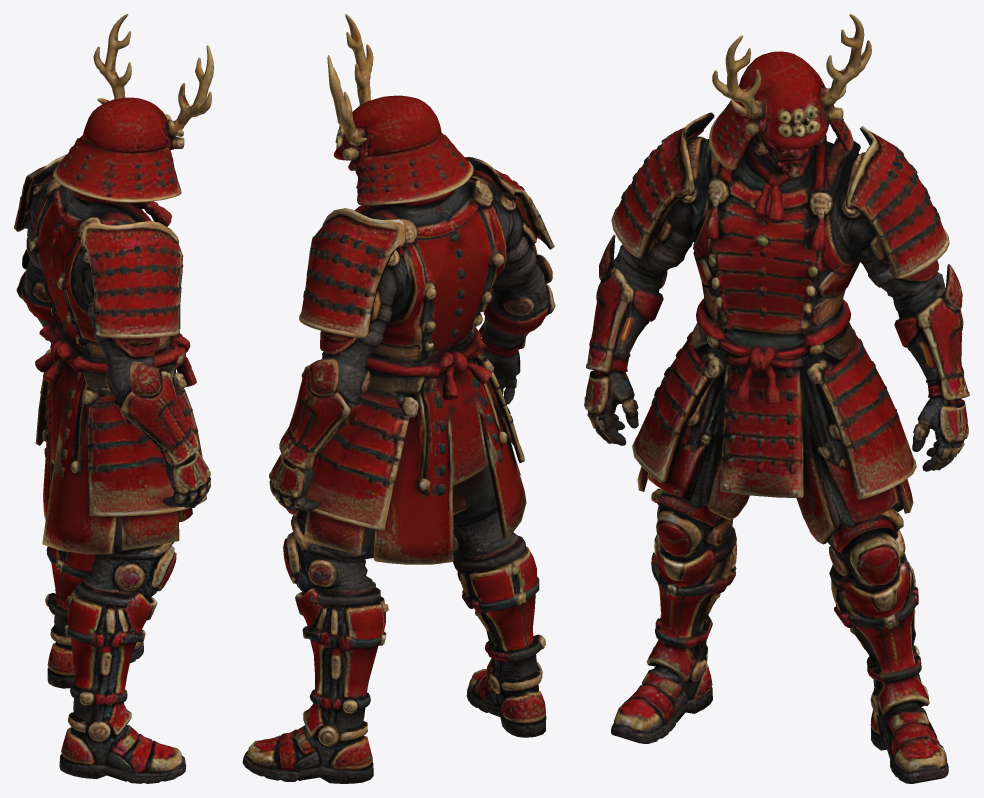
Rendered from game-model_url.glb.
3 views of the same model, side by side, from view 1: azimuth 30°, elevation 25°; view 2: azimuth 150°, elevation 25°; view 3: azimuth 270°, elevation 25° (orthographic). The views are drawn at different scales.
Parts seen in each view (by area): view 1: tripo_node_be20e3bb-0a3b-481a-b8cf-c3ceb77e1654; view 2: tripo_node_be20e3bb-0a3b-481a-b8cf-c3ceb77e1654; view 3: tripo_node_be20e3bb-0a3b-481a-b8cf-c3ceb77e1654.
Part boxes in pixels (left/top/right/bottom): tripo_node_be20e3bb-0a3b-481a-b8cf-c3ceb77e1654: left=14, top=14, right=213, bottom=783; tripo_node_be20e3bb-0a3b-481a-b8cf-c3ceb77e1654: left=242, top=14, right=555, bottom=783; tripo_node_be20e3bb-0a3b-481a-b8cf-c3ceb77e1654: left=584, top=14, right=969, bottom=783.
Size of the model in its own units: 0.2847 by 0.9995 by 0.4634.
1 material, 1 textured.
